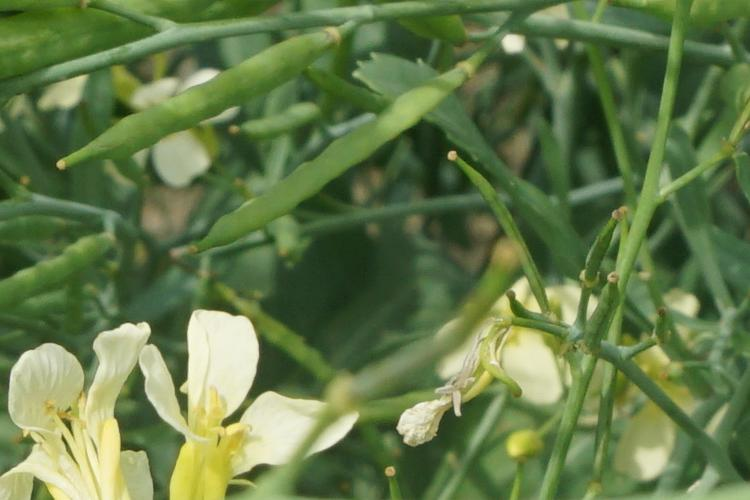pod: (159, 126, 384, 259), (52, 88, 321, 166), (453, 149, 554, 287), (582, 190, 628, 326), (641, 296, 704, 373), (499, 278, 582, 331)
white: (151, 308, 343, 482), (385, 276, 616, 409), (10, 330, 163, 496)
